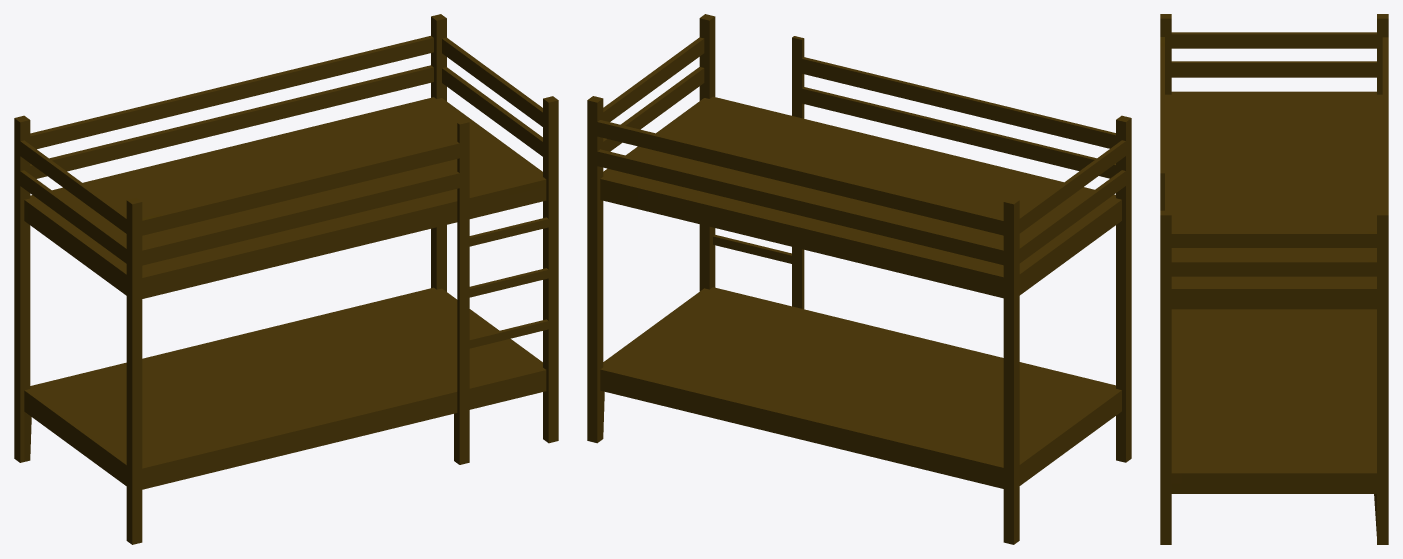
Rendered from bunk_bed.glb.
3 renders of one model, left to right at view 1: azimuth 30°, elevation 25°; view 2: azimuth 150°, elevation 25°; view 3: azimuth 270°, elevation 25°, orthographic. The views are drawn at different scales.
Parts seen in each view (by area): view 1: Object_2; view 2: Object_2; view 3: Object_2.
Boxes of the visible parts, x1=… form: Object_2: x1=14, y1=14, x2=558, y2=544; Object_2: x1=587, y1=14, x2=1131, y2=544; Object_2: x1=1160, y1=14, x2=1388, y2=544.
Bounding box in the file's own units: 211 × 161 × 101.
1 material, 1 textured.
